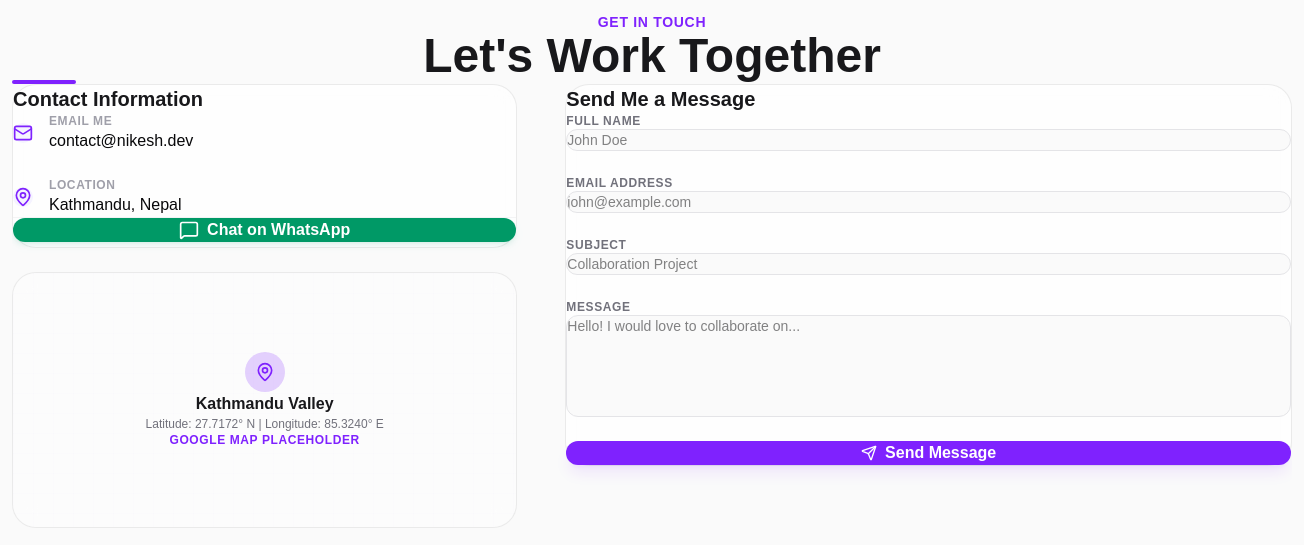
Contact Component Form Validation › submits successfully and shows success banner when fields are valid
Type "Nikesh Dev" into the field labelled "Full Name". click: [929, 140]
box: [566, 129, 1291, 151]
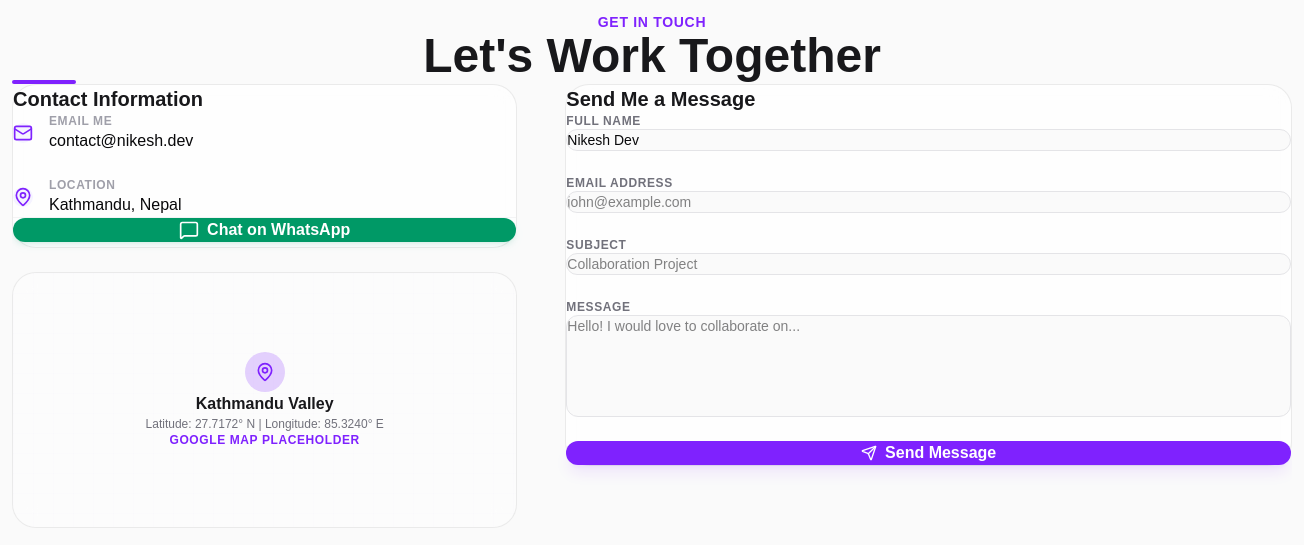
Type "nikesh@example.com" into the field labelled "Email Address". click: [929, 202]
box: [566, 191, 1291, 213]
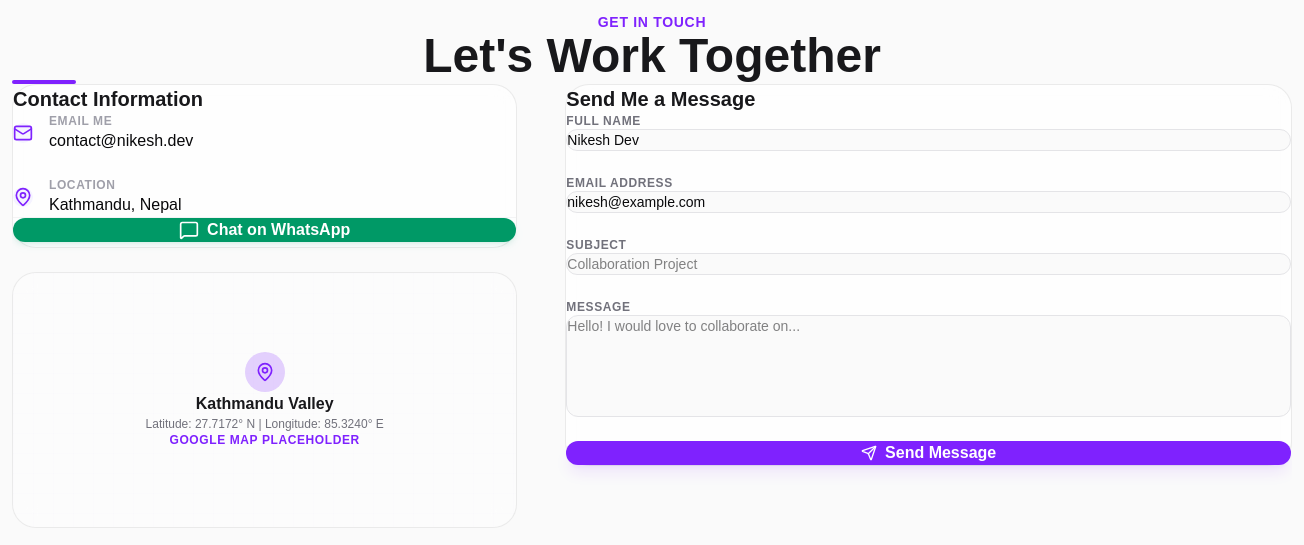
Type "Project Collaboration" into the field labelled "Subject". click: [929, 264]
box: [566, 253, 1291, 275]
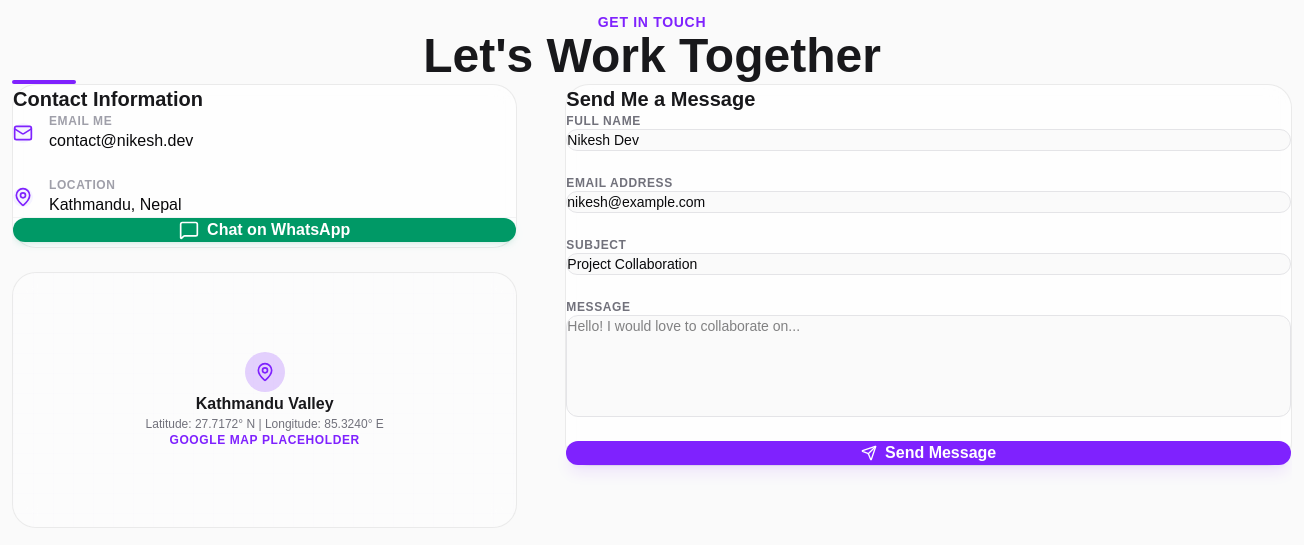
Type "Hello, let's collaborate on a Next.js project!" into the text box labelled "Message". click: [929, 366]
box: [566, 315, 1291, 417]
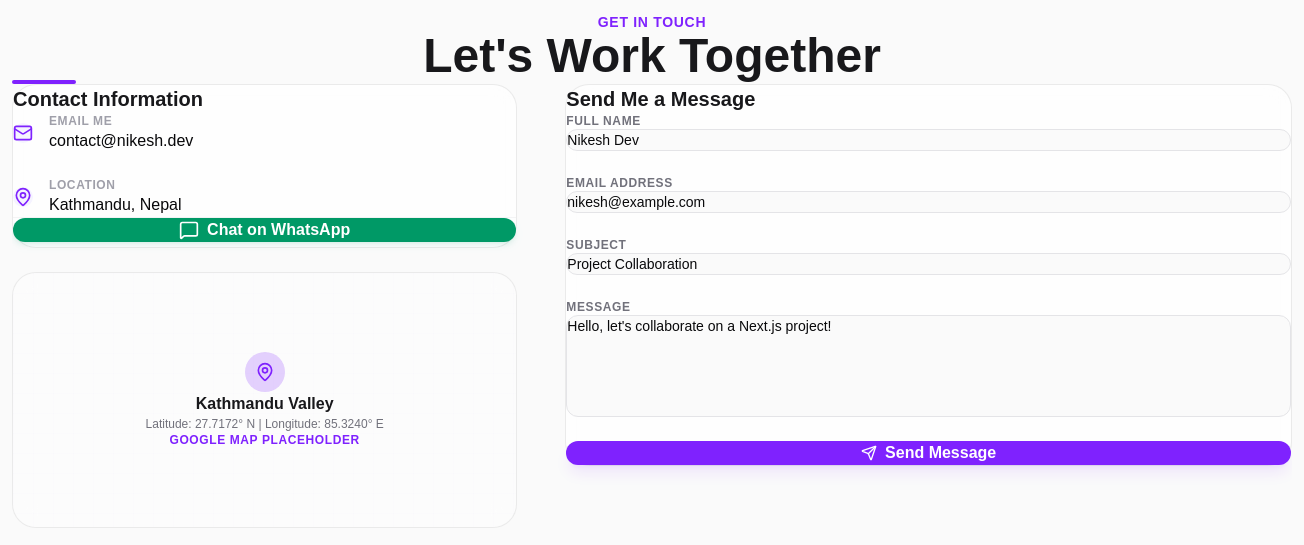
Click the button "Send Message". click: [929, 453]
box: [566, 441, 1291, 465]
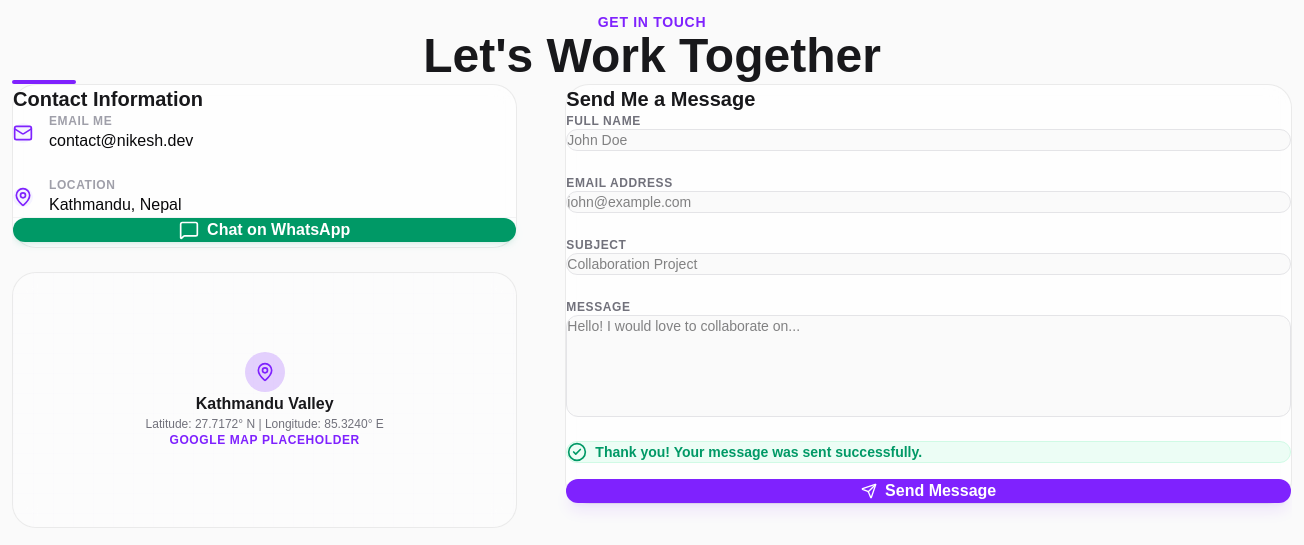
Now the element with test id "success-banner" is shown, box [566, 441, 1291, 463]
